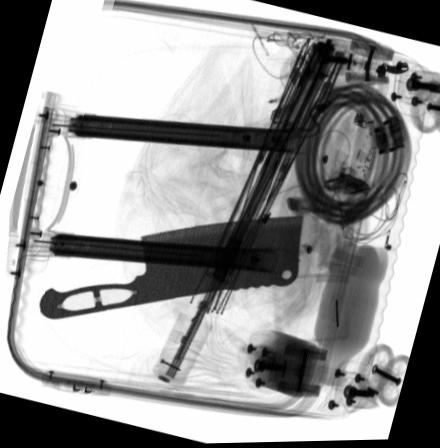Knife: (40, 217, 304, 319)
